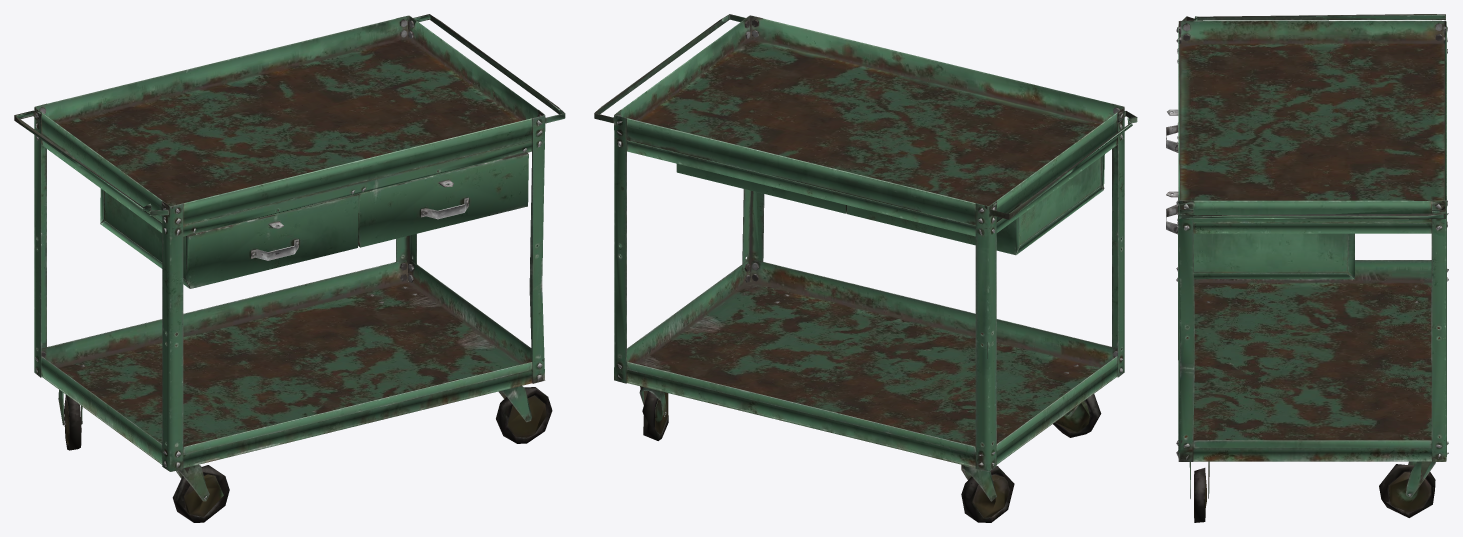
File: workbench-2.glb
3 views of the same model, side by side, from view 1: azimuth 30°, elevation 25°; view 2: azimuth 150°, elevation 25°; view 3: azimuth 270°, elevation 25° (orthographic).
Parts seen in each view (by area): view 1: tool_cart; view 2: tool_cart; view 3: tool_cart.
Part boxes in pixels (x1,y1,x2,y2): tool_cart: (14,14,565,522); tool_cart: (594,14,1137,522); tool_cart: (1166,14,1448,522).
Size of the model in its own units: 1.27 by 0.9619 by 0.7521.
Materials: 1 (1 with a texture image).
